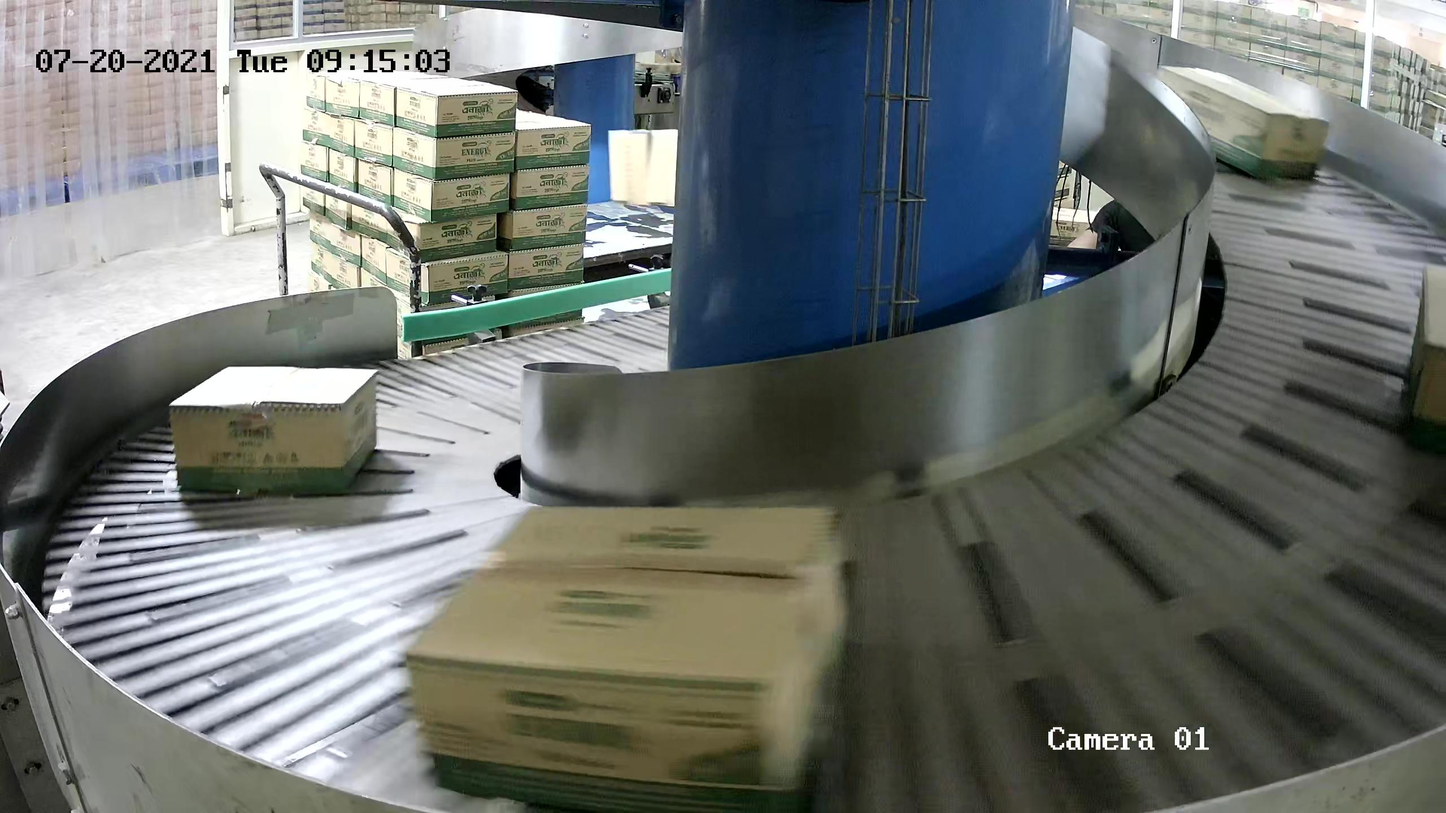Box: (401, 502, 853, 813), (167, 365, 380, 498), (1154, 64, 1331, 180), (1407, 261, 1446, 445)
